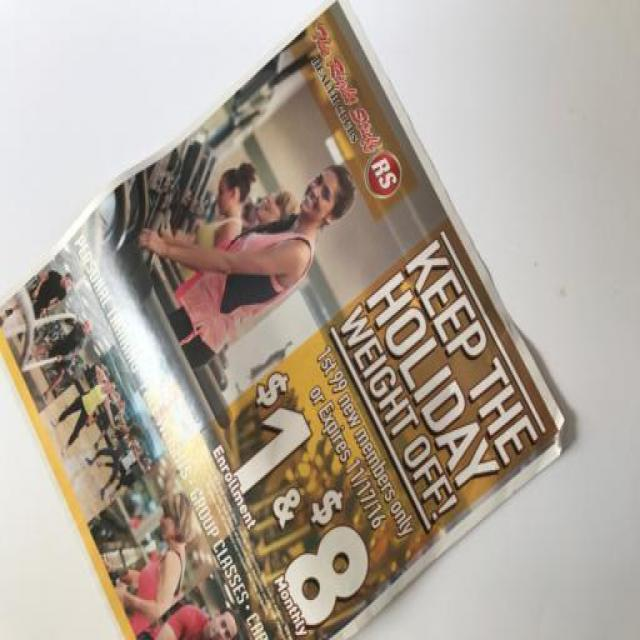paper: (5, 4, 569, 640)
